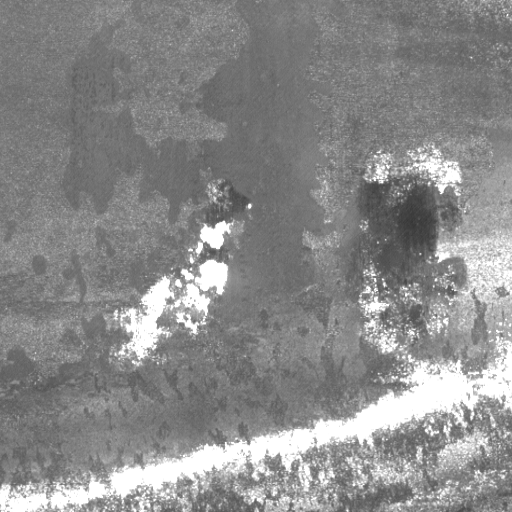qiaopi: (116, 173, 254, 365)
